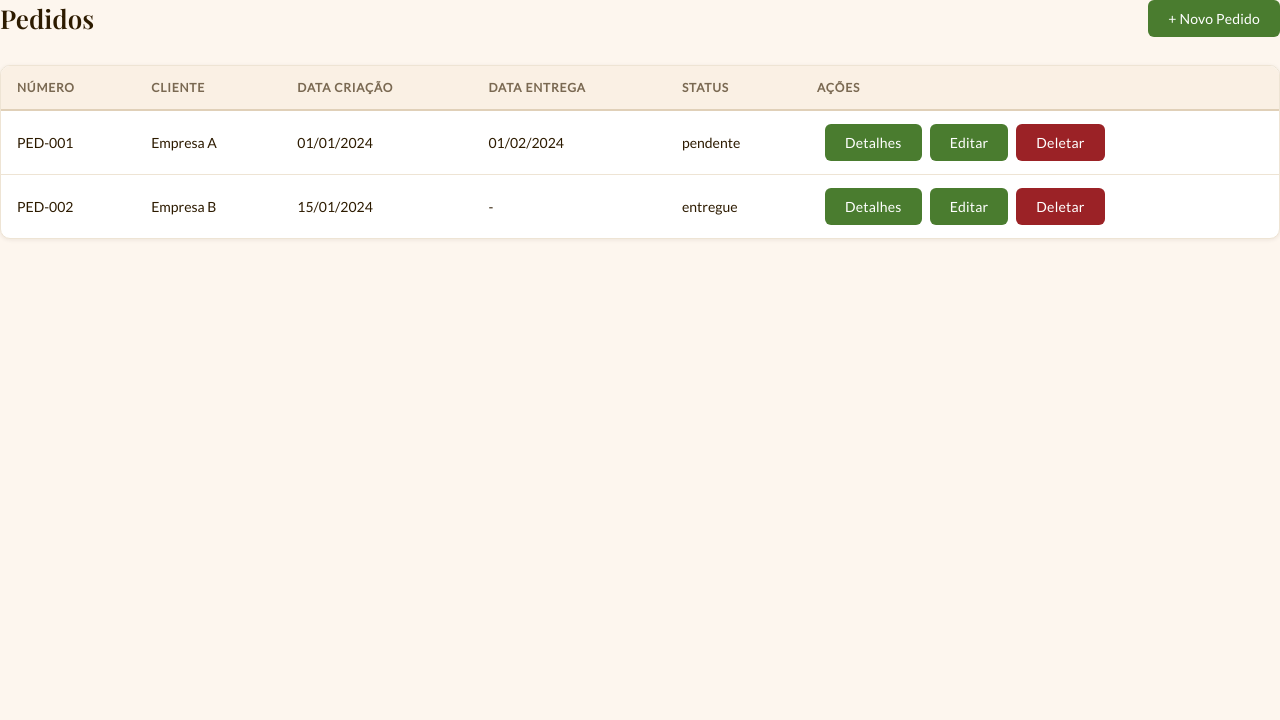
it: Pedidos › exibe seção de produtos ao abrir modal de criação
expect the text "PED-001" is shown: met, box [1,110,135,174]
Click the button "+ Novo Pedido" at (1214, 18), box [1148,0,1279,37]
(page scrolled)
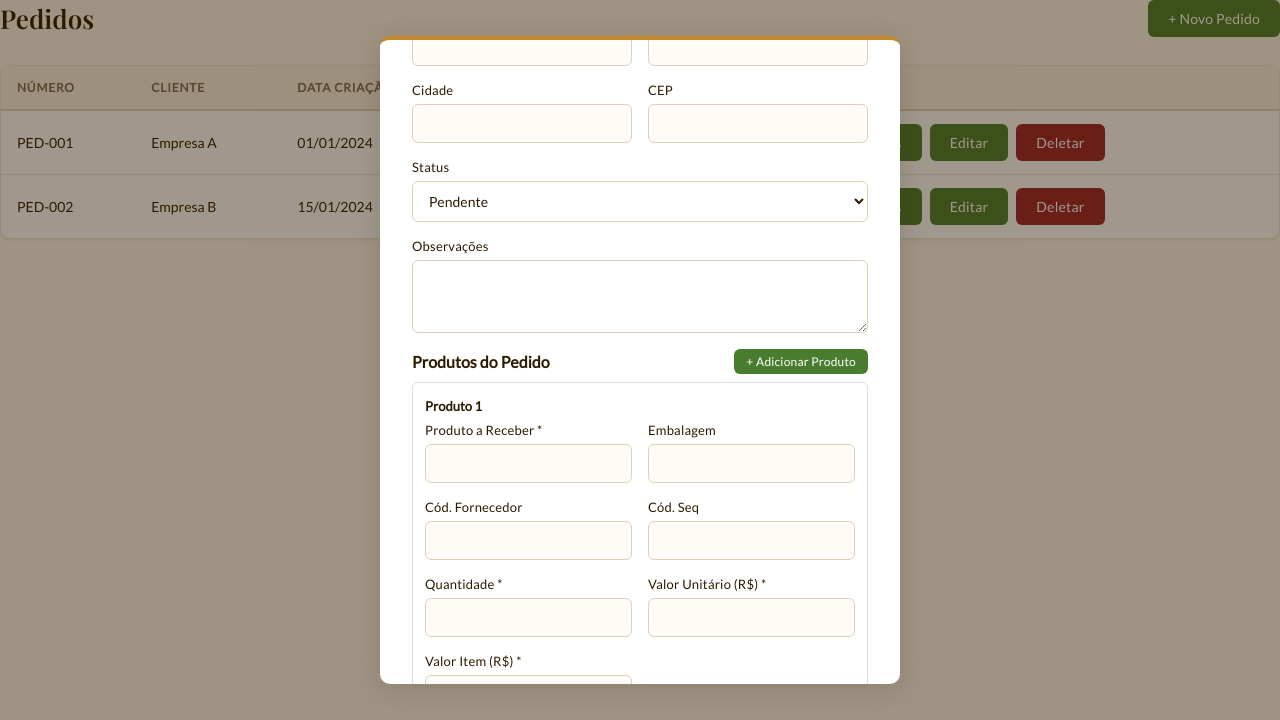
expect the heading "Produtos do Pedido" is shown: met, box [412,352,550,371]
